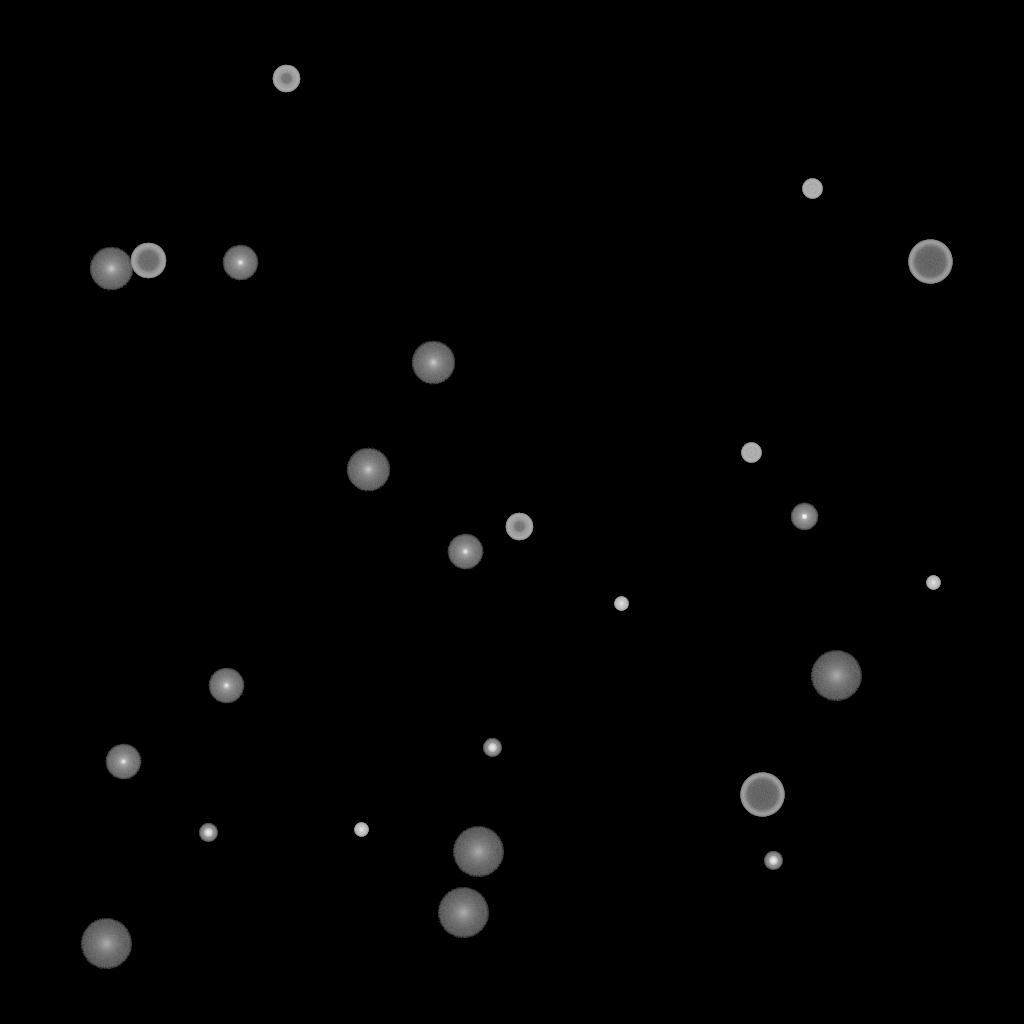depth:-10: (790, 503, 818, 531)
depth:-20: (199, 824, 217, 842), (483, 739, 501, 757), (764, 852, 782, 870)
depth:-30: (926, 576, 940, 590), (614, 597, 628, 611), (354, 823, 368, 837)
depth:-40: (802, 179, 822, 199), (741, 443, 761, 463)
depth:-50: (505, 513, 533, 541), (272, 65, 300, 93)
depth:-60: (130, 243, 166, 279)
depth:-70: (908, 240, 952, 284), (740, 773, 784, 817)
depth:0: (208, 668, 244, 704), (105, 744, 141, 780), (447, 534, 483, 570), (222, 245, 258, 281)
depth:10: (411, 341, 455, 385), (346, 448, 390, 492), (89, 247, 133, 291)
depth:20: (437, 888, 489, 938), (810, 651, 862, 701), (80, 919, 132, 969), (452, 827, 504, 877)
